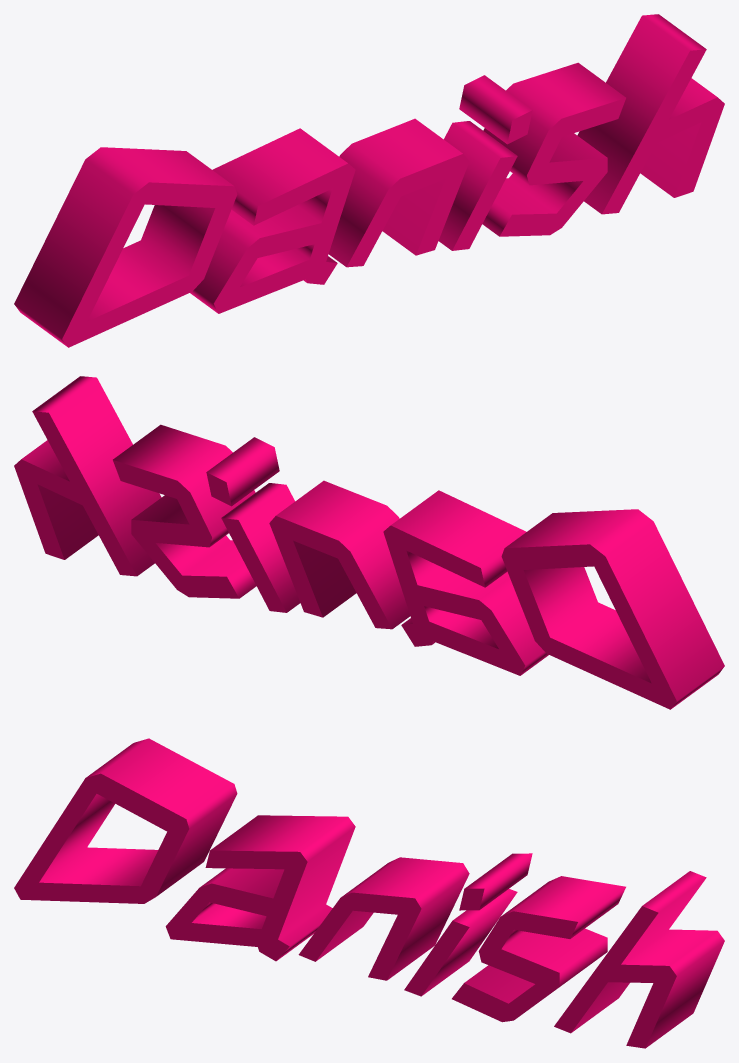
3 views of the same model, one above another, from view 1: azimuth 30°, elevation 25°; view 2: azimuth 150°, elevation 25°; view 3: azimuth 330°, elevation 25° (orthographic).
Visible parts, largest first — view 1: Danish; view 2: Danish; view 3: Danish.
Part boxes in pixels (left/top/right/bottom): Danish: left=14, top=14, right=724, bottom=347; Danish: left=14, top=376, right=724, bottom=709; Danish: left=14, top=738, right=724, bottom=1048.
Bounding box in the file's own units: 4.78 × 1.04 × 0.6.
